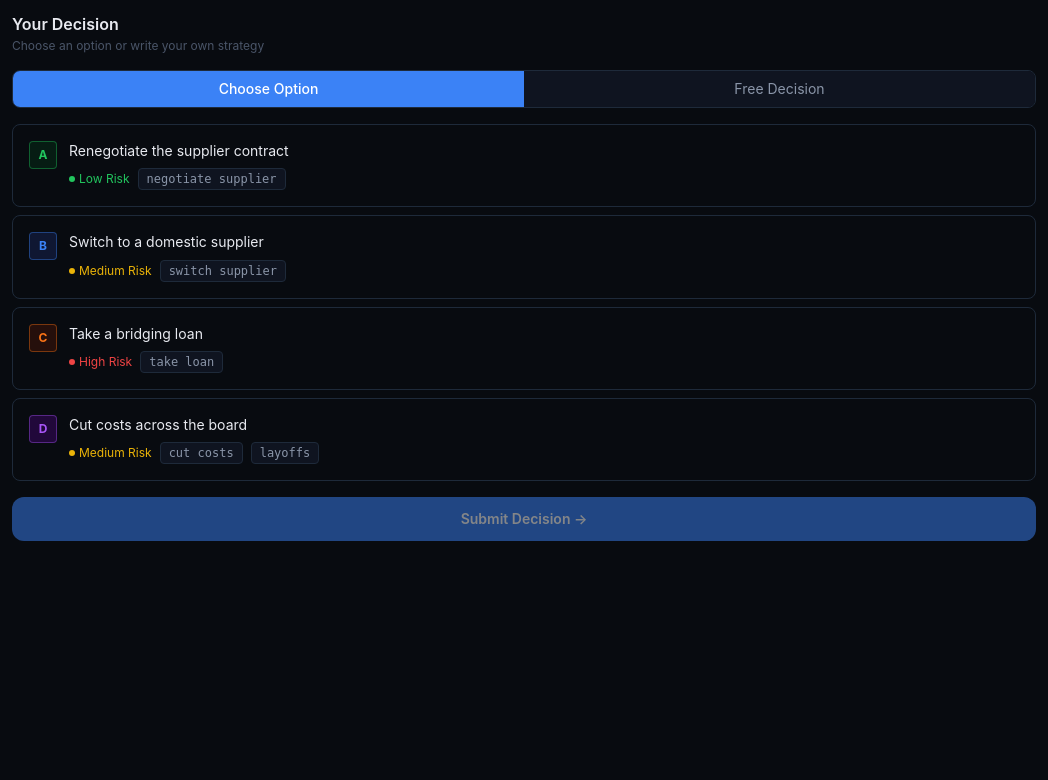
Test: DecisionPanel — choosing an option › clears the selection after a submission
Click the text "Take a bridging loan": click(136, 333) [69,324,203,342]
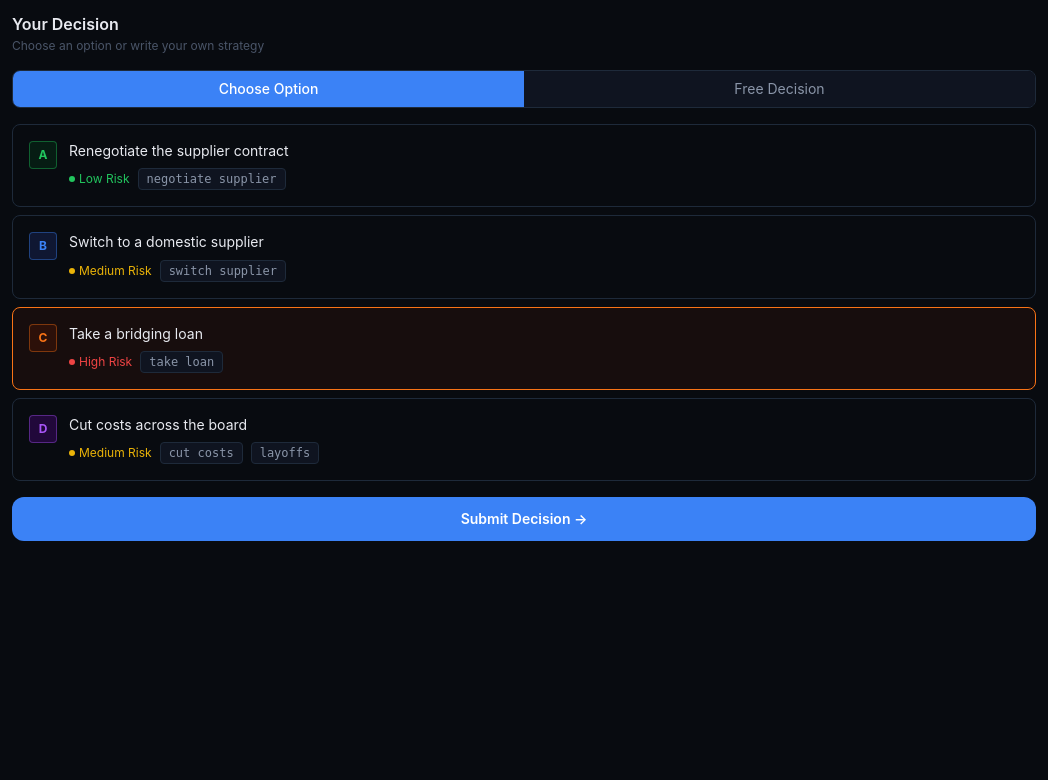
Click the button "Submit Decision →": click(524, 519) [12,497,1036,541]
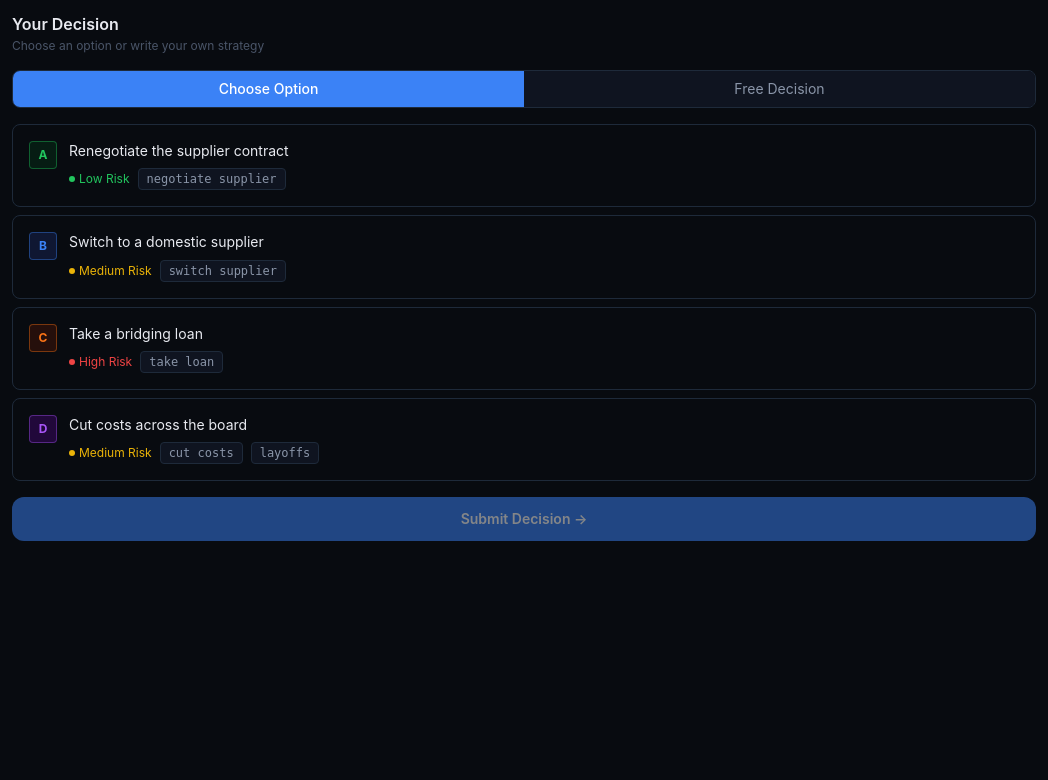
Now the button "Submit Decision →" is disabled, box [12,497,1036,541]
